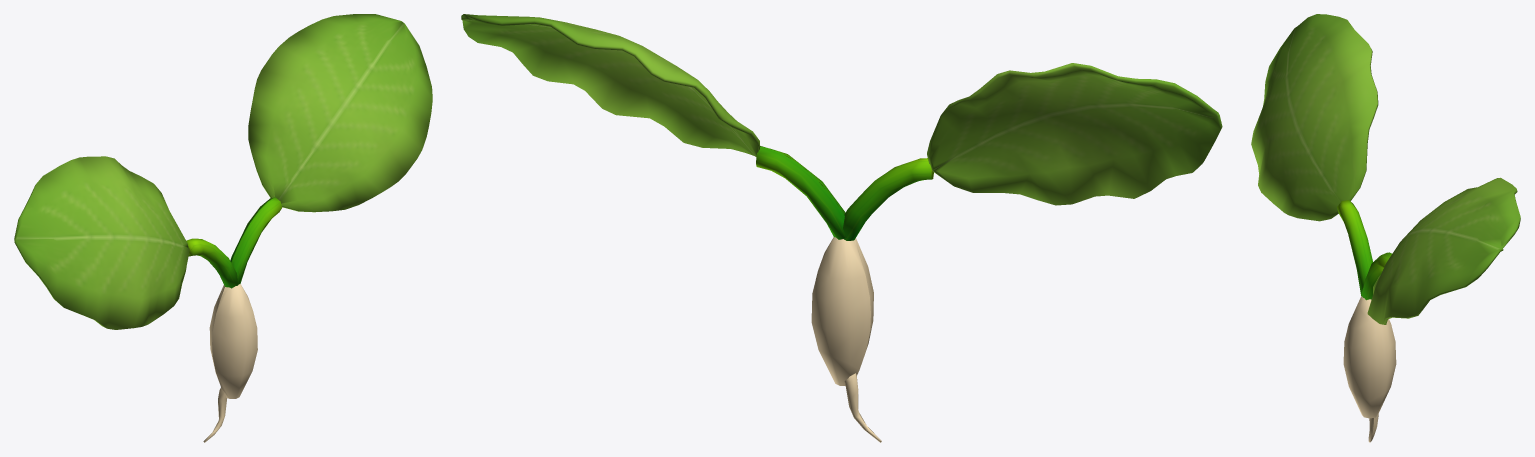
Rendered from NP_Radish_Sprout_LOD1.fbx.
3 views of the same model, side by side, from view 1: azimuth 30°, elevation 25°; view 2: azimuth 150°, elevation 25°; view 3: azimuth 270°, elevation 25° (orthographic). The views are drawn at different scales.
Parts seen in each view (by area): view 1: NP_Radish_Sprout; view 2: NP_Radish_Sprout; view 3: NP_Radish_Sprout.
Boxes of the visible parts, x1,y1,x2,y2 form: NP_Radish_Sprout: [14, 14, 432, 442]; NP_Radish_Sprout: [461, 14, 1222, 442]; NP_Radish_Sprout: [1251, 14, 1520, 442].
Size of the model in its own units: 31.77 by 20.2 by 14.24.
